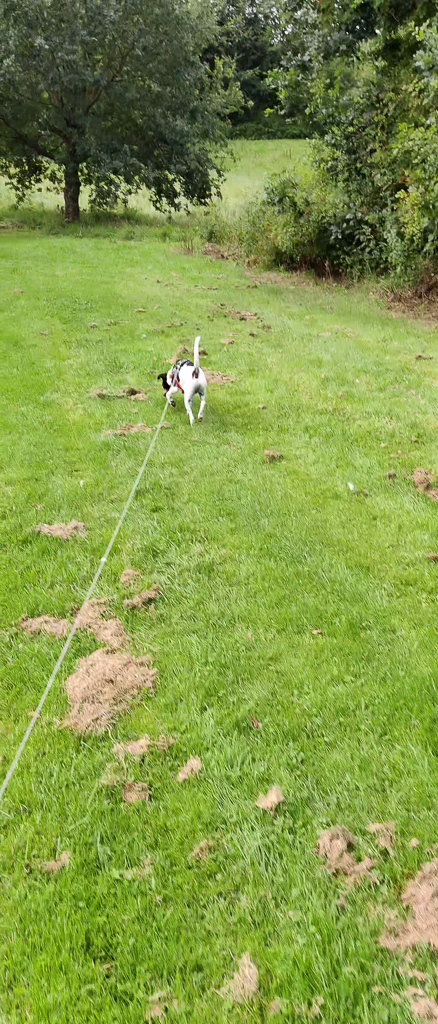Dog: (154, 332, 213, 433)
